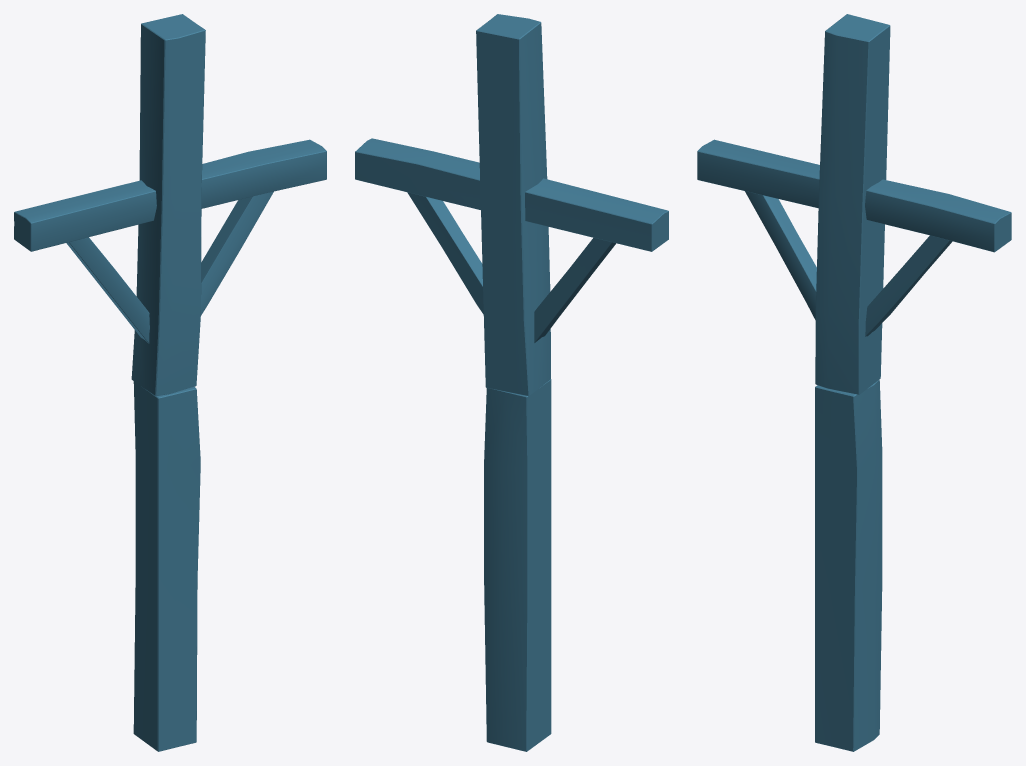
Rendered from Beam_Structure_05A_Lod0.fbx.
3 renders of one model, left to right at view 1: azimuth 30°, elevation 25°; view 2: azimuth 150°, elevation 25°; view 3: azimuth 330°, elevation 25°, orthographic.
Parts seen in each view (by area): view 1: Beam_Structure_05A_Lod0; view 2: Beam_Structure_05A_Lod0; view 3: Beam_Structure_05A_Lod0.
Part boxes in pixels (x1,y1,x2,y2): Beam_Structure_05A_Lod0: [14, 14, 326, 751]; Beam_Structure_05A_Lod0: [355, 14, 668, 751]; Beam_Structure_05A_Lod0: [697, 14, 1011, 751].
Bounding box in the file's own units: 206 × 472 × 31.93.
